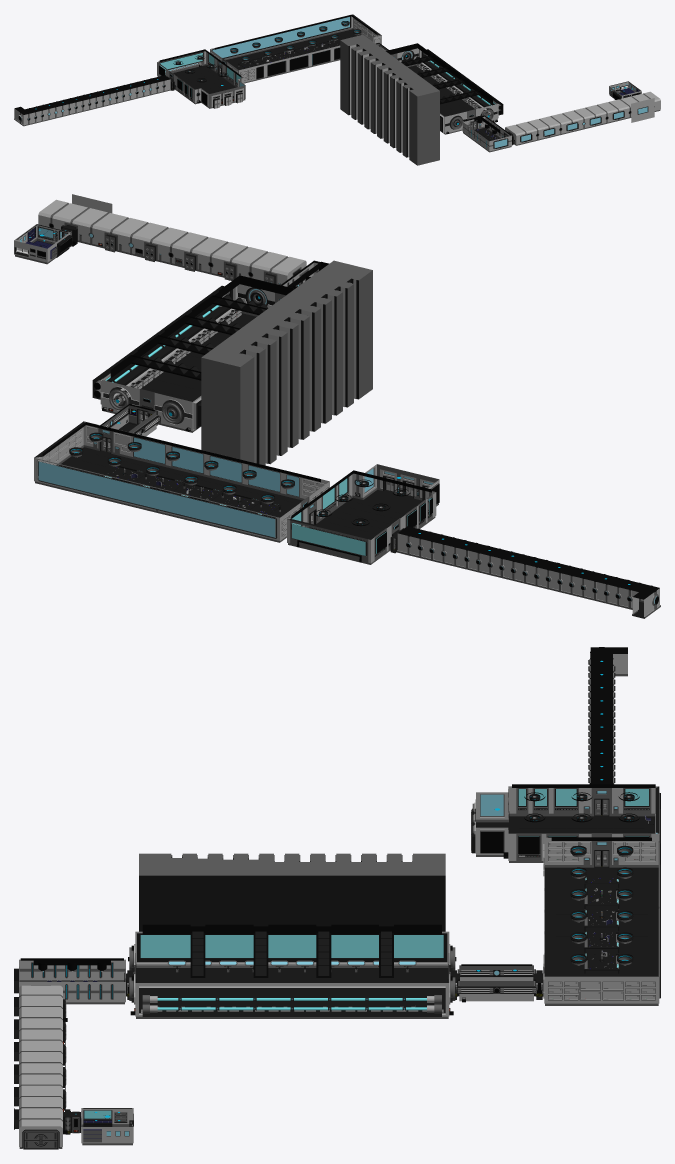
The model's file is IntroSequenceSetV1.fbx.
3 views of the same model, one above another, from view 1: azimuth 30°, elevation 25°; view 2: azimuth 150°, elevation 25°; view 3: azimuth 270°, elevation 25° (orthographic). The views are drawn at different scales.
Parts seen in each view (by area): view 1: IntroSequenceBuilding, IntroSequenceItemStorageCrates; view 2: IntroSequenceBuilding, IntroSequenceItemStorageCrates; view 3: IntroSequenceBuilding.
Part boxes in pixels (<box>): IntroSequenceBuilding: <box>14,14,660,165</box>; IntroSequenceItemStorageCrates: <box>416,63,490,117</box>; IntroSequenceBuilding: <box>14,194,660,618</box>; IntroSequenceItemStorageCrates: <box>113,309,241,404</box>; IntroSequenceBuilding: <box>14,647,660,1149</box>.
Bounding box in the file's own units: 152 × 20.34 × 86.57.
30 materials, 11 textured.
